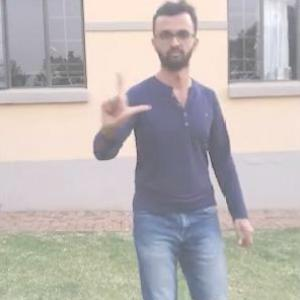land_hand: (89, 69, 155, 136)
